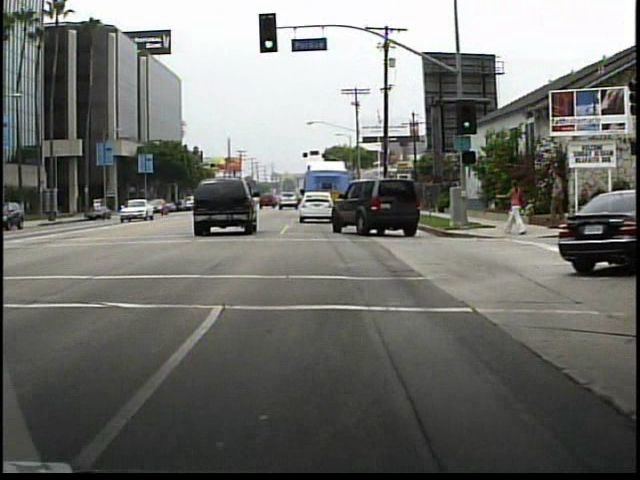person: (501, 174, 530, 242), (540, 167, 570, 230)
